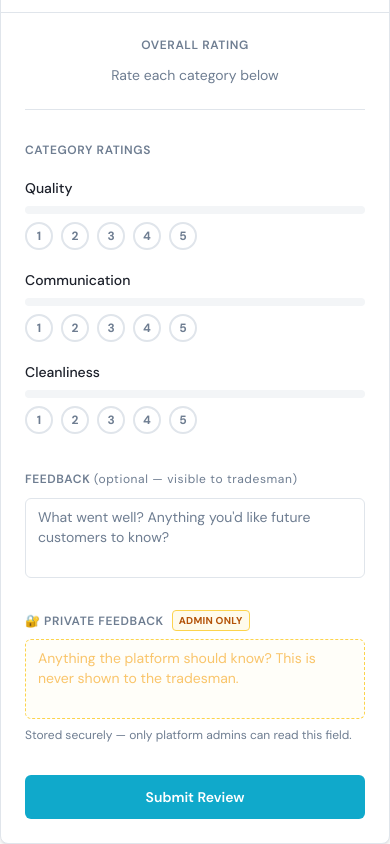
Test: ReviewMediator — validation › shows validation errors when form is submitted without ratings
(page scrolled)
Click the button "Submit Review" at (195, 797), box [25,775,365,819]
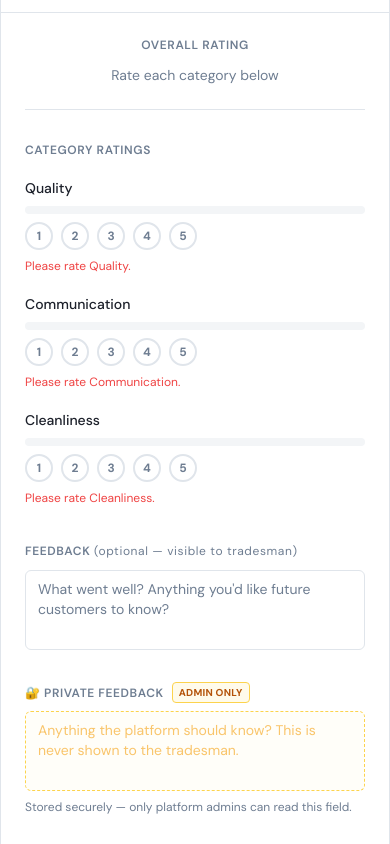
expect the text "Please rate Quality." is shown: met, box [25,258,130,274]
expect the text "Please rate Communication." is shown: met, box [25,374,180,390]
expect the text "Please rate Cleanliness." is shown: met, box [25,490,155,506]
